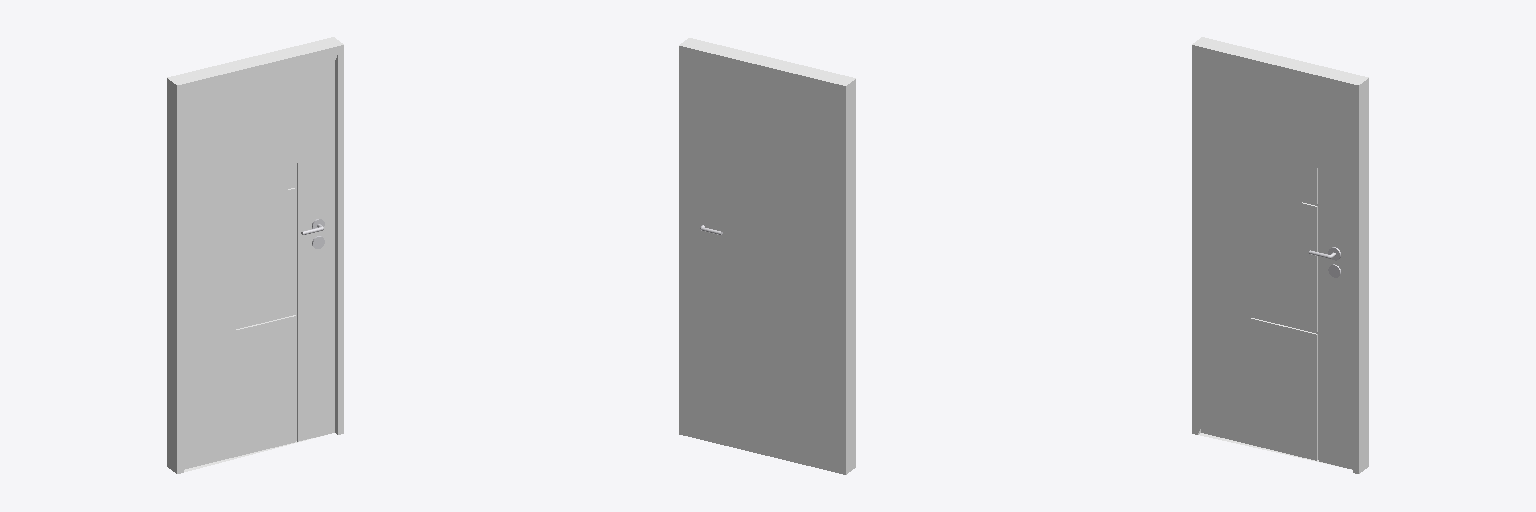
File: door 1.obj
3 views of the same model, side by side, from view 1: azimuth 30°, elevation 25°; view 2: azimuth 150°, elevation 25°; view 3: azimuth 330°, elevation 25° (orthographic).
Visible parts, largest first — view 1: Mesh9 Group2 Group1 Model; view 2: Mesh9 Group2 Group1 Model; view 3: Mesh9 Group2 Group1 Model.
Part boxes in pixels (left/top/right/bottom): Mesh9 Group2 Group1 Model: left=167, top=37, right=343, bottom=473; Mesh9 Group2 Group1 Model: left=679, top=38, right=855, bottom=474; Mesh9 Group2 Group1 Model: left=1192, top=37, right=1368, bottom=473.
Bounding box in the file's own units: 35.43 × 78.74 × 6.77.